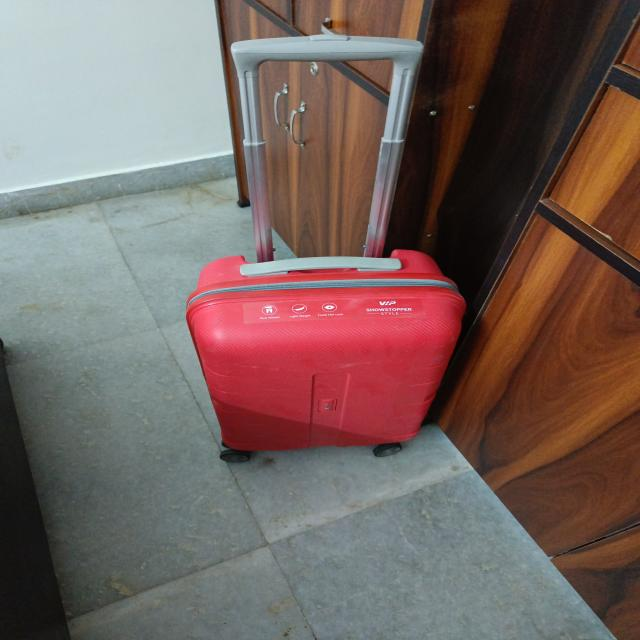suitcaserotation: (181, 31, 468, 465)
